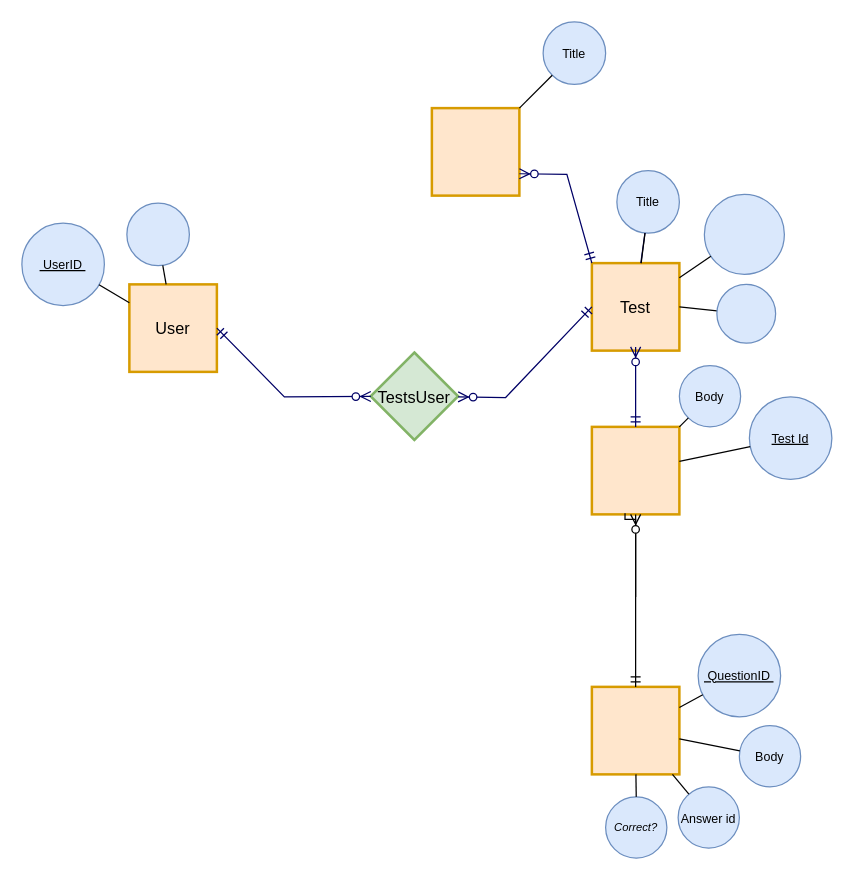
Some shapes in this 854 by 880 pixel diagram are drawn without their labels. The shapes that lost their labels are listed below. From the top down, each one's box as (x1, y1, x2, y2) in pixels, then its label:
(430, 106, 520, 196): Category
(126, 202, 189, 266): Name
(703, 193, 784, 274): Category Id
(716, 283, 776, 343): Level
(590, 425, 680, 515): Question
(590, 685, 680, 775): Answer
